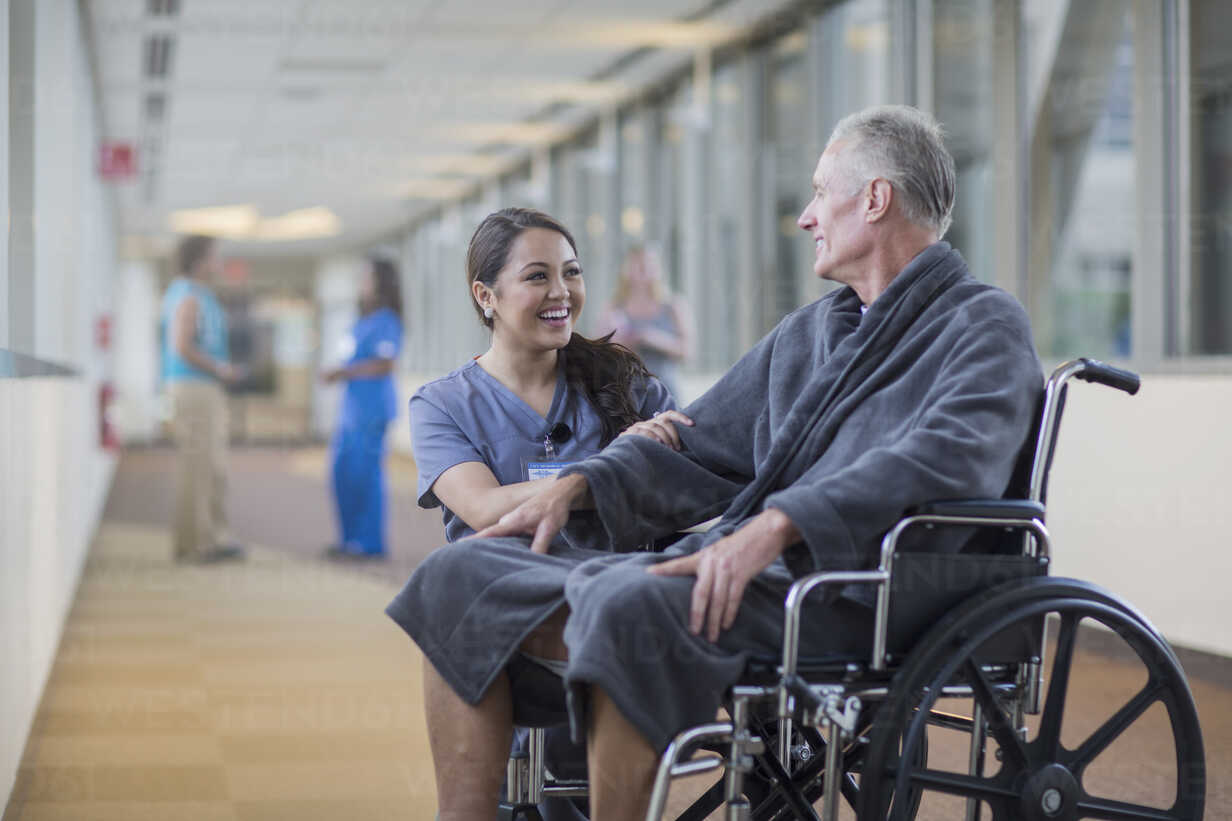wheelchair: (383, 102, 1206, 821)
